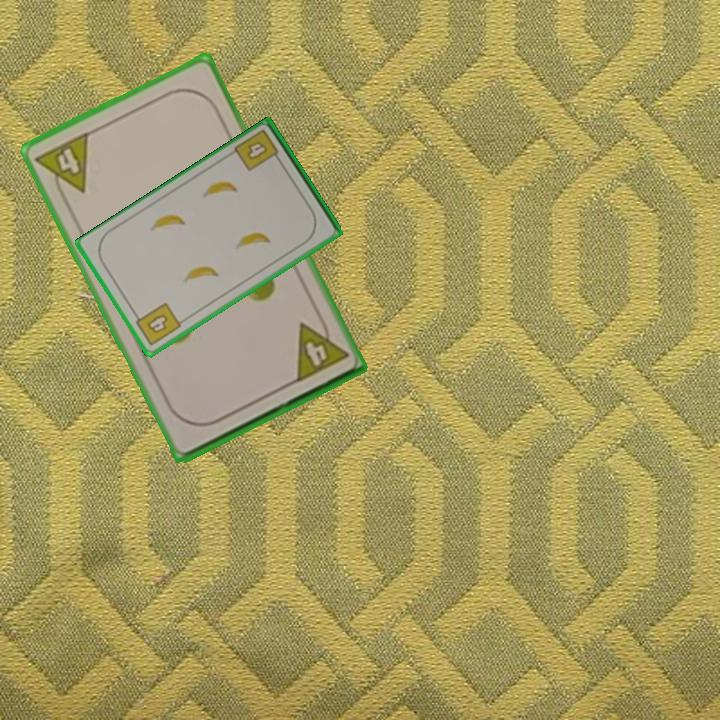4b: (130, 299, 184, 349), (231, 126, 284, 174)
4p: (31, 128, 92, 205), (291, 311, 351, 386)
